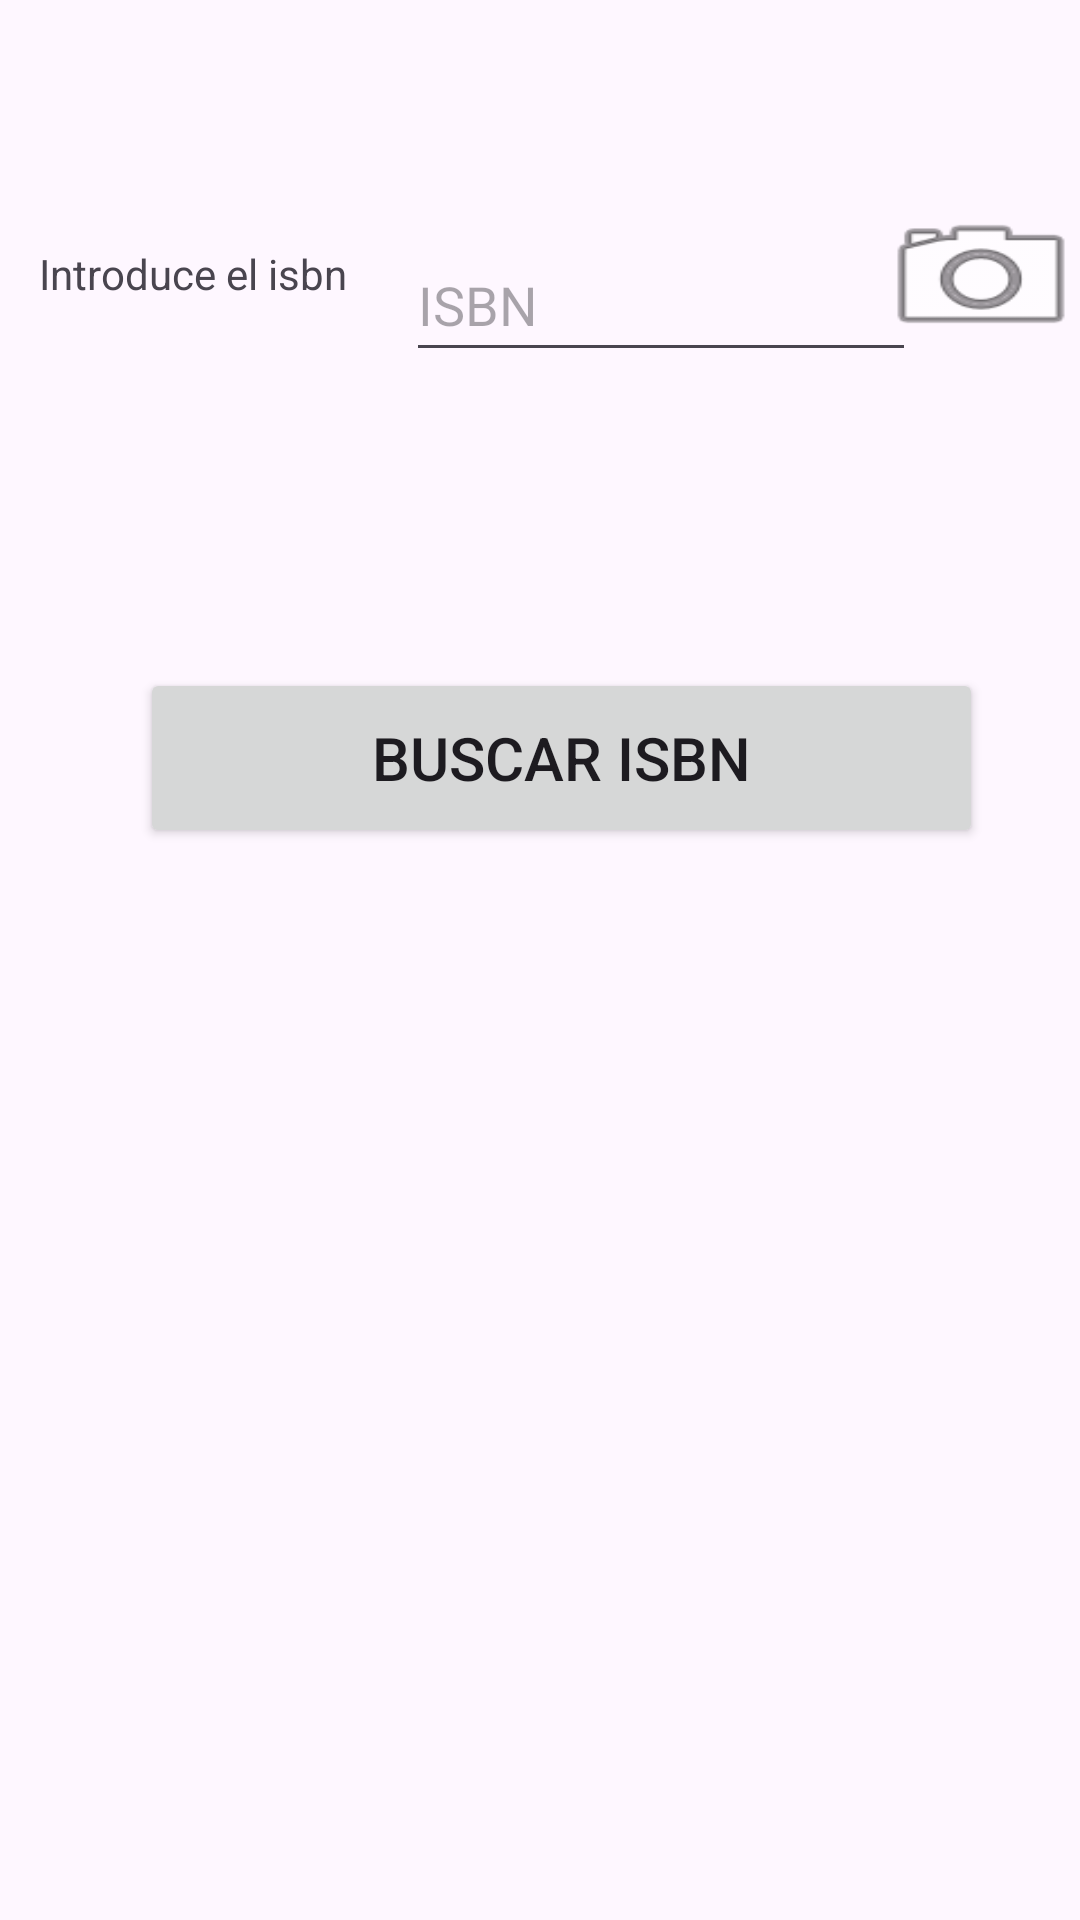

Where to tap for icons on this 1080px×1920px app screen, as (x=x, y=y):
camera: (x=981, y=274)
